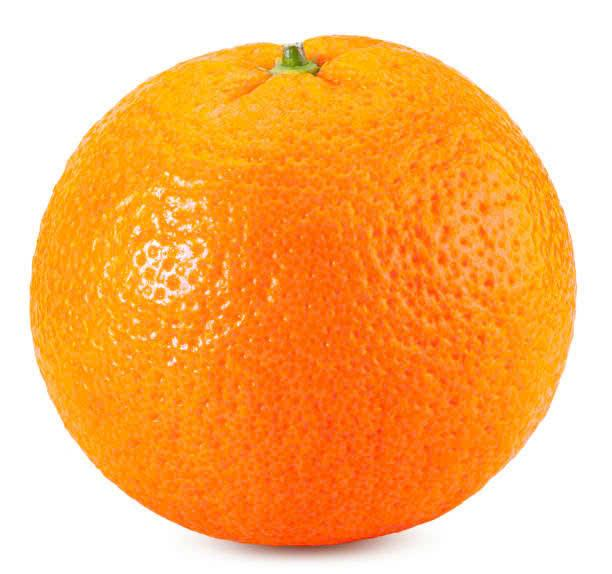orange: (34, 29, 567, 537)
